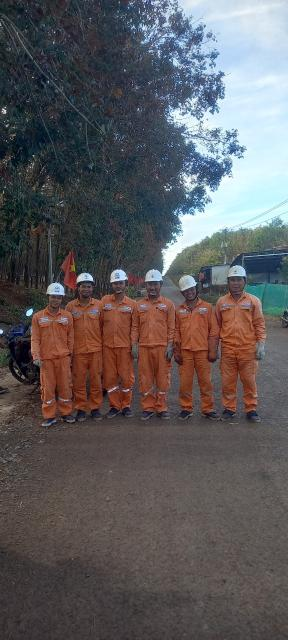gloves: (204, 330, 226, 365), (257, 332, 273, 367), (174, 337, 191, 369), (127, 339, 145, 358), (165, 336, 174, 368), (28, 355, 53, 366)
helmet: (222, 262, 261, 287), (140, 267, 169, 286), (174, 273, 200, 294), (37, 284, 69, 300), (105, 266, 130, 285), (73, 270, 97, 287)
shoes: (221, 401, 241, 428), (244, 405, 267, 424), (42, 409, 56, 437), (91, 401, 105, 424), (107, 403, 121, 422), (177, 406, 197, 419), (202, 409, 222, 422), (61, 411, 77, 426), (77, 405, 90, 423), (121, 404, 135, 420), (160, 409, 174, 424), (139, 410, 155, 422)
